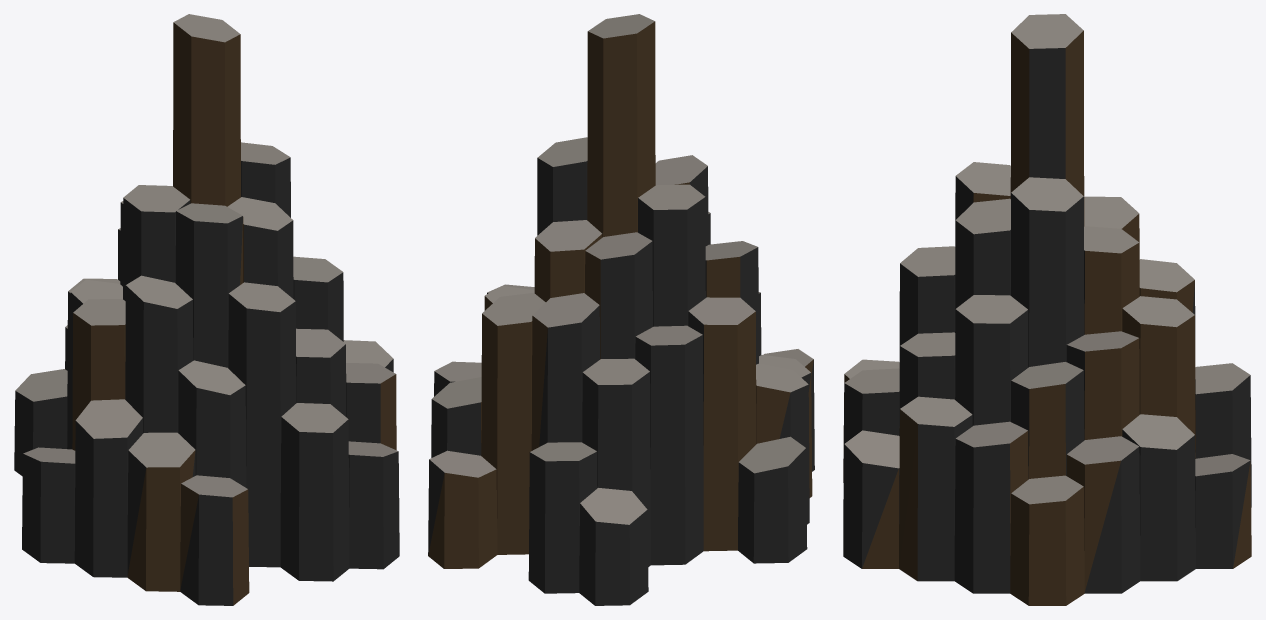
File: basalt-columns-a.glb
The picture shows the model from 3 angles, left to right: view 1: azimuth 30°, elevation 25°; view 2: azimuth 150°, elevation 25°; view 3: azimuth 270°, elevation 25°; orthographic projection.
Parts seen in each view (by area): view 1: Body_Stone, Body_StoneBand, Body_Top; view 2: Body_Stone, Body_StoneBand, Body_Top; view 3: Body_Stone, Body_StoneBand, Body_Top.
Part boxes in pixels (box(x1,y1,x2,y2)): Body_Stone: box(14, 157, 399, 605); Body_StoneBand: box(72, 22, 396, 605); Body_Top: box(15, 14, 397, 497); Body_Stone: box(428, 158, 814, 605); Body_StoneBand: box(428, 21, 813, 568); Body_Top: box(429, 14, 813, 524); Body_Stone: box(843, 48, 1251, 593); Body_StoneBand: box(843, 30, 1251, 605); Body_Top: box(844, 14, 1250, 504).
Bounding box in the file's own units: 3 × 4 × 3.
